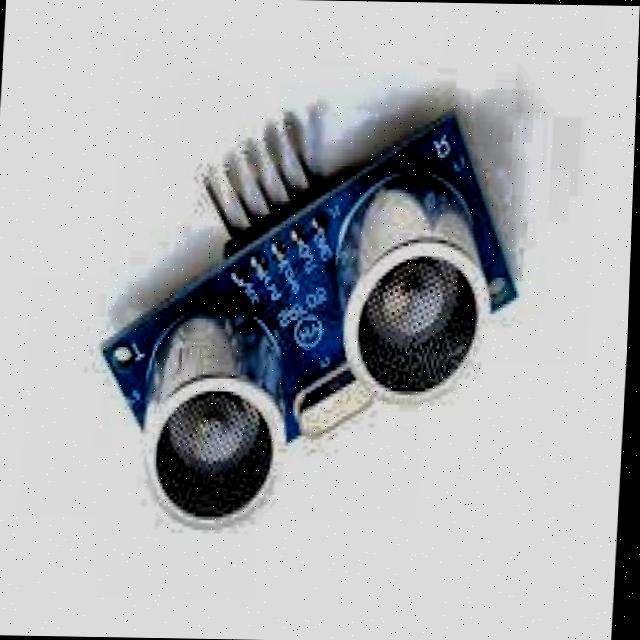Ultrasonic Sensor: (42, 55, 572, 561)
